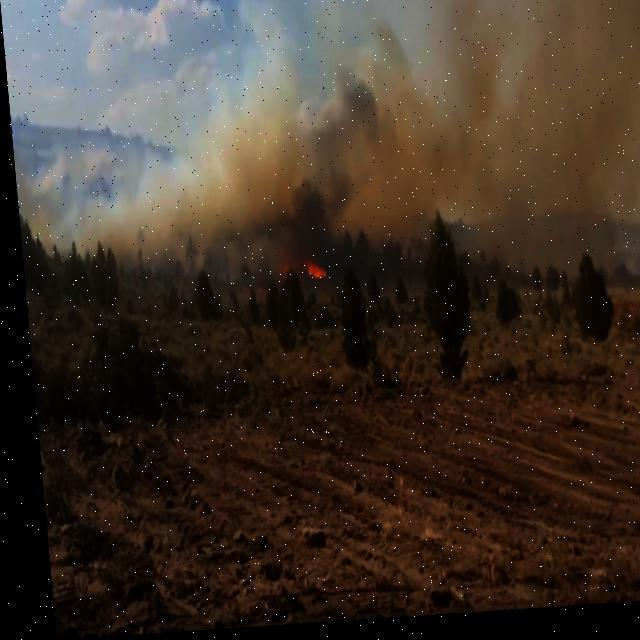Fire: (299, 260, 322, 294)
